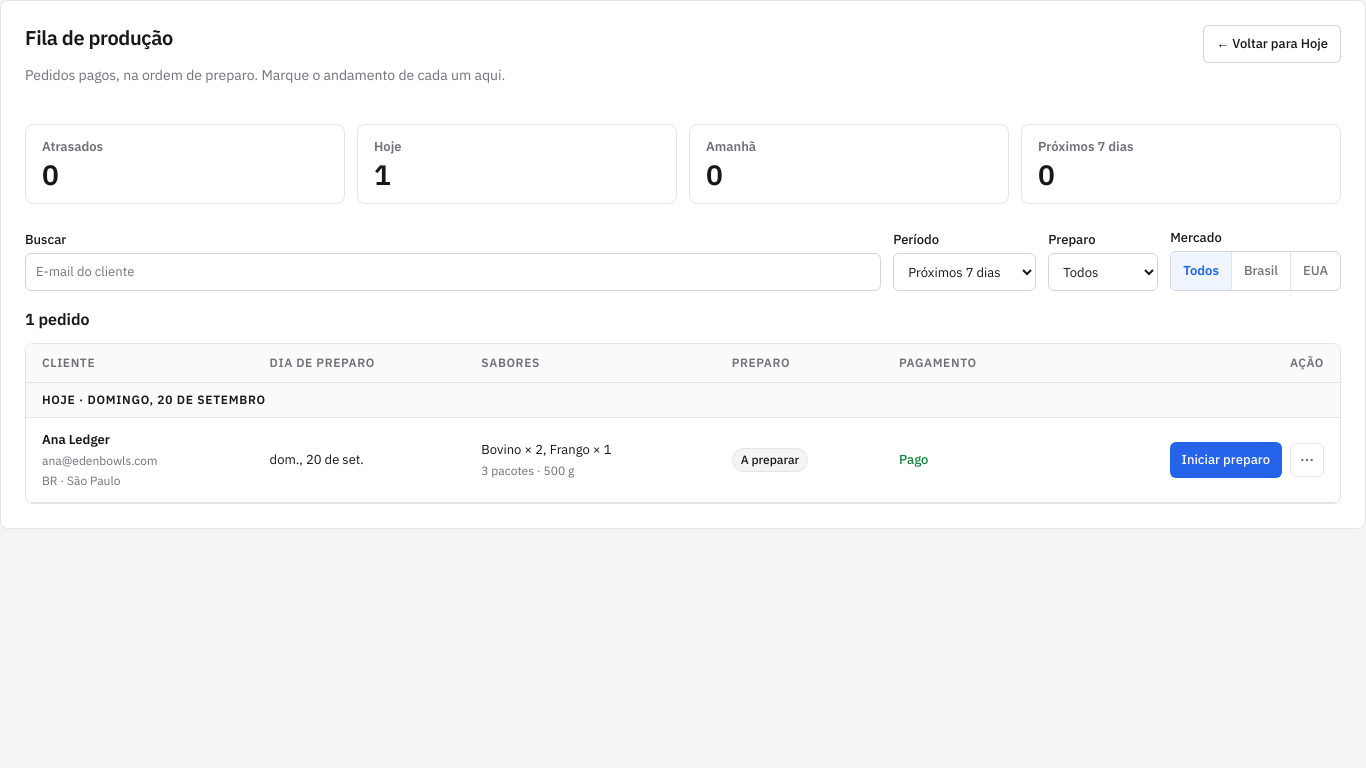
Test: ProductionQueuePage › lets an admin pick the market
expect the text "ana@edenbowls.com" is shown: met, box [42,452,158,470]
Click the button "EUA" at (1316, 271), box [1291,252,1340,290]
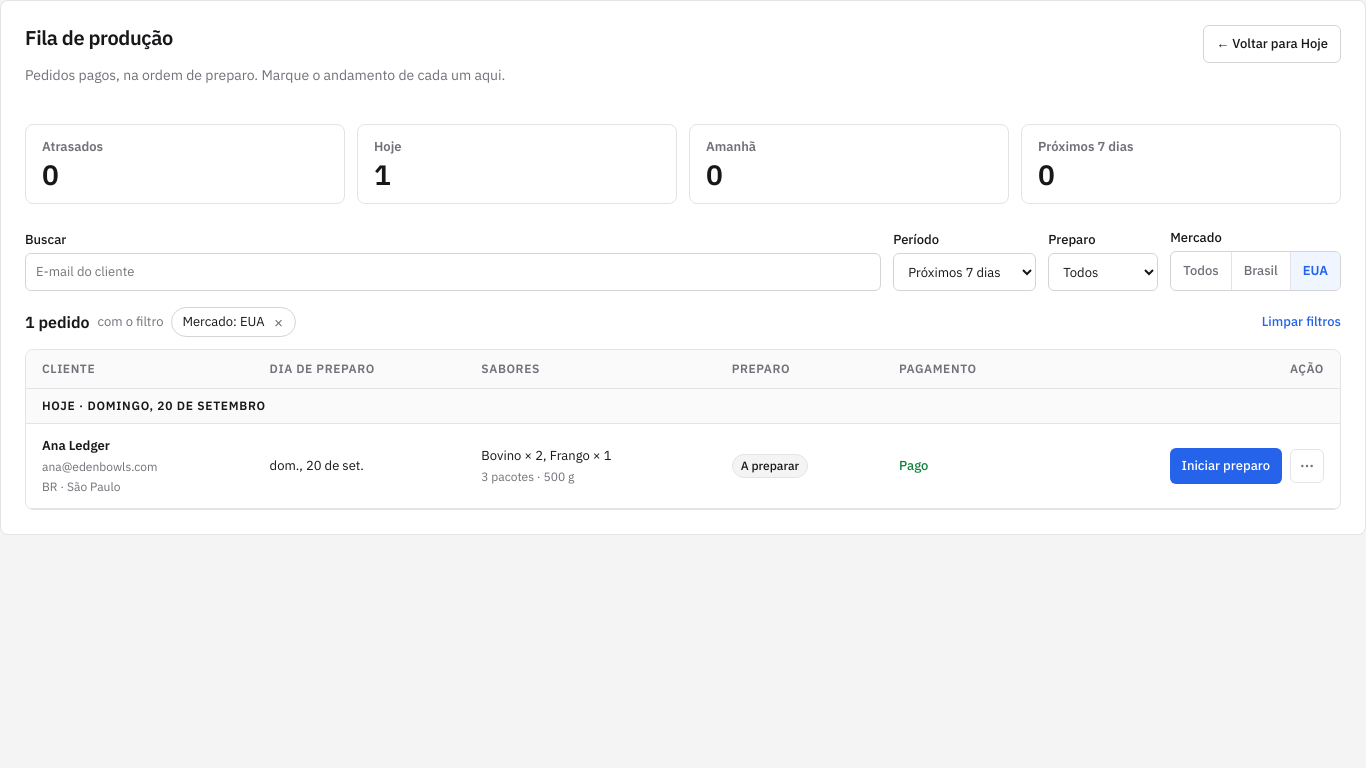
expect the text "Mercado: EUA" is shown: met, box [182,313,264,330]
